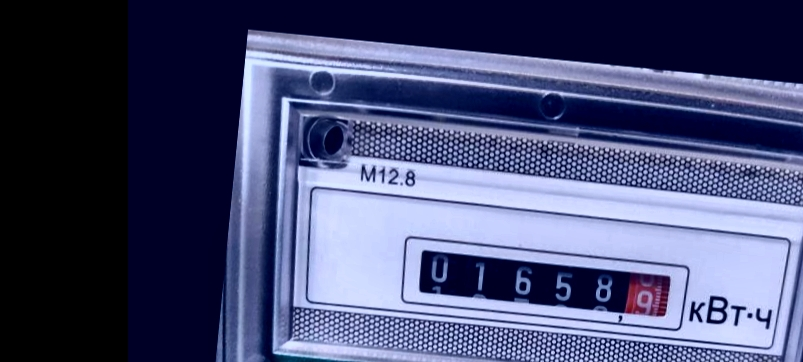0: (429, 252, 452, 284)
1: (472, 259, 492, 292)
5: (553, 269, 577, 302)
6: (513, 262, 536, 297)
8: (594, 270, 617, 304)
9: (633, 288, 657, 318)
screen: (390, 226, 697, 338)
